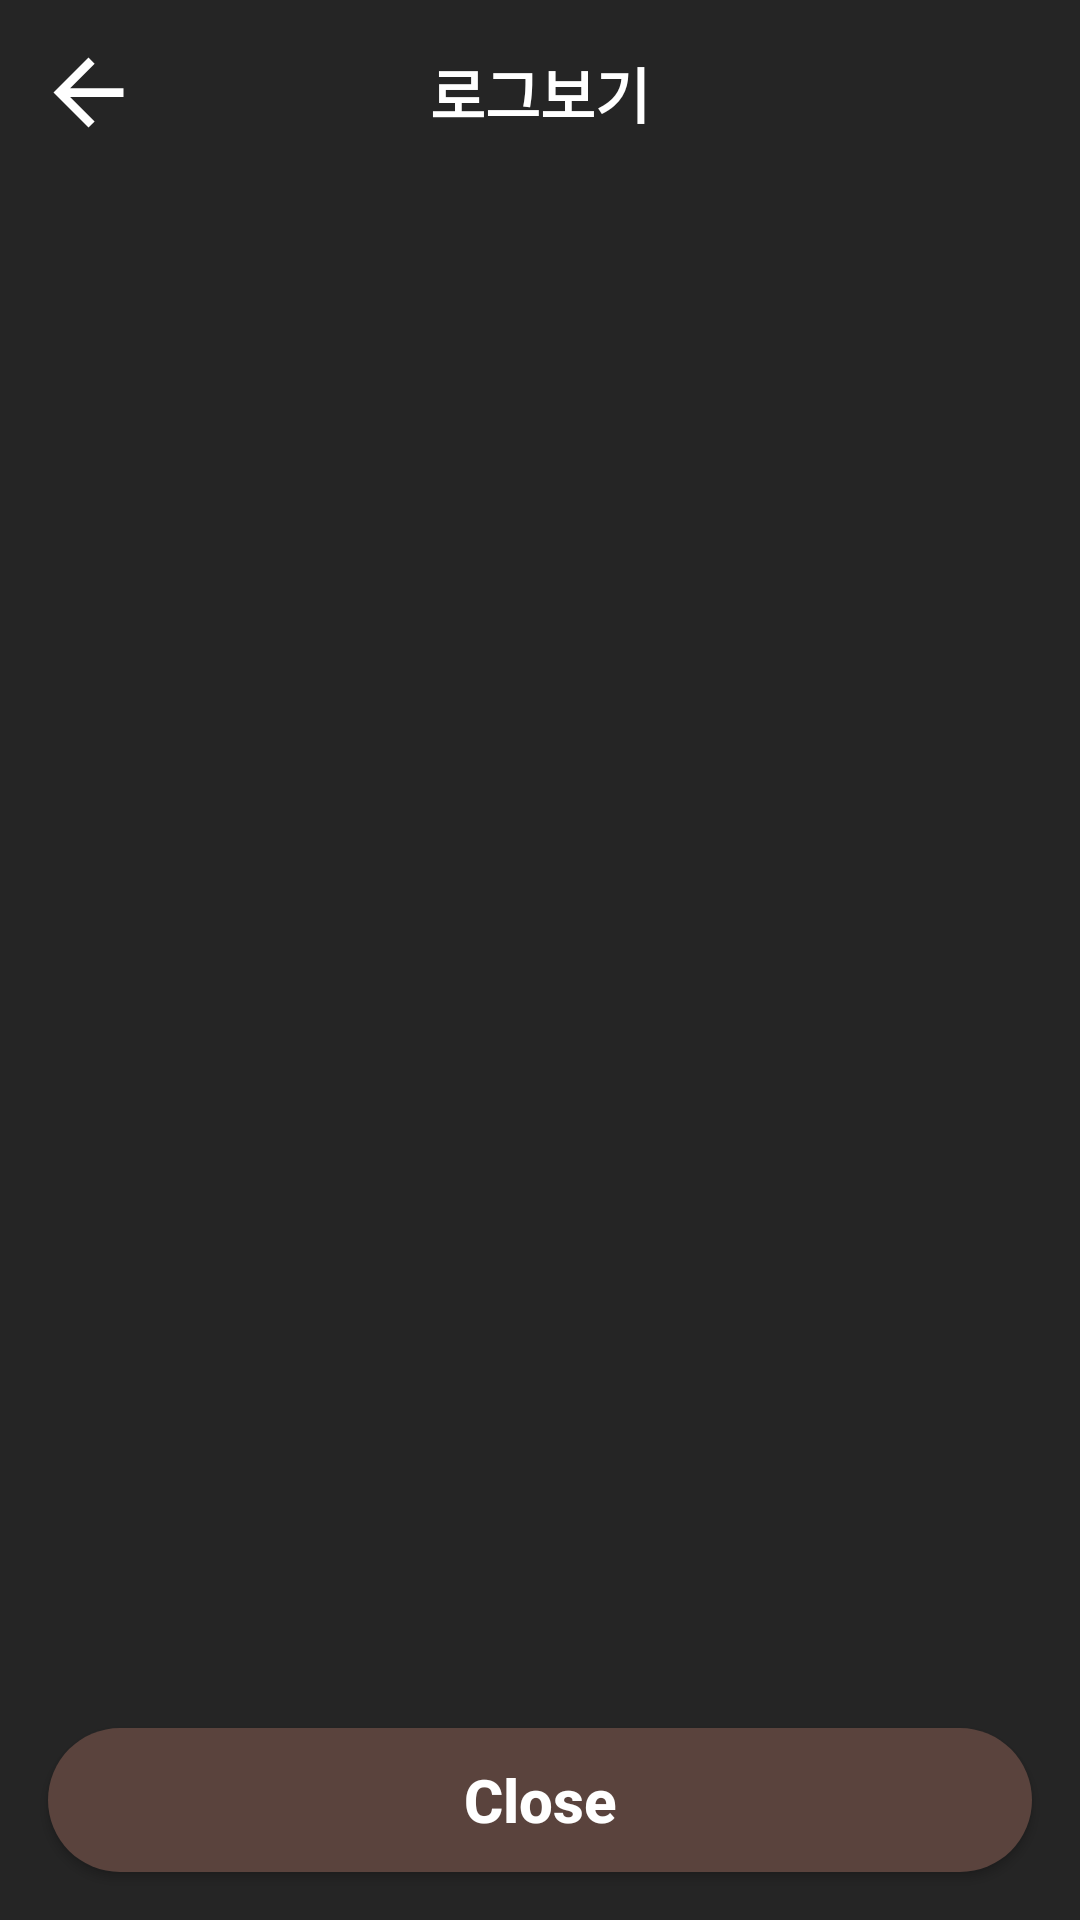

Screen size 1080w x 1920h. Icon name, then its box in pixels as (x1, y1, x2, y2):
Back: (53, 57, 124, 128)
